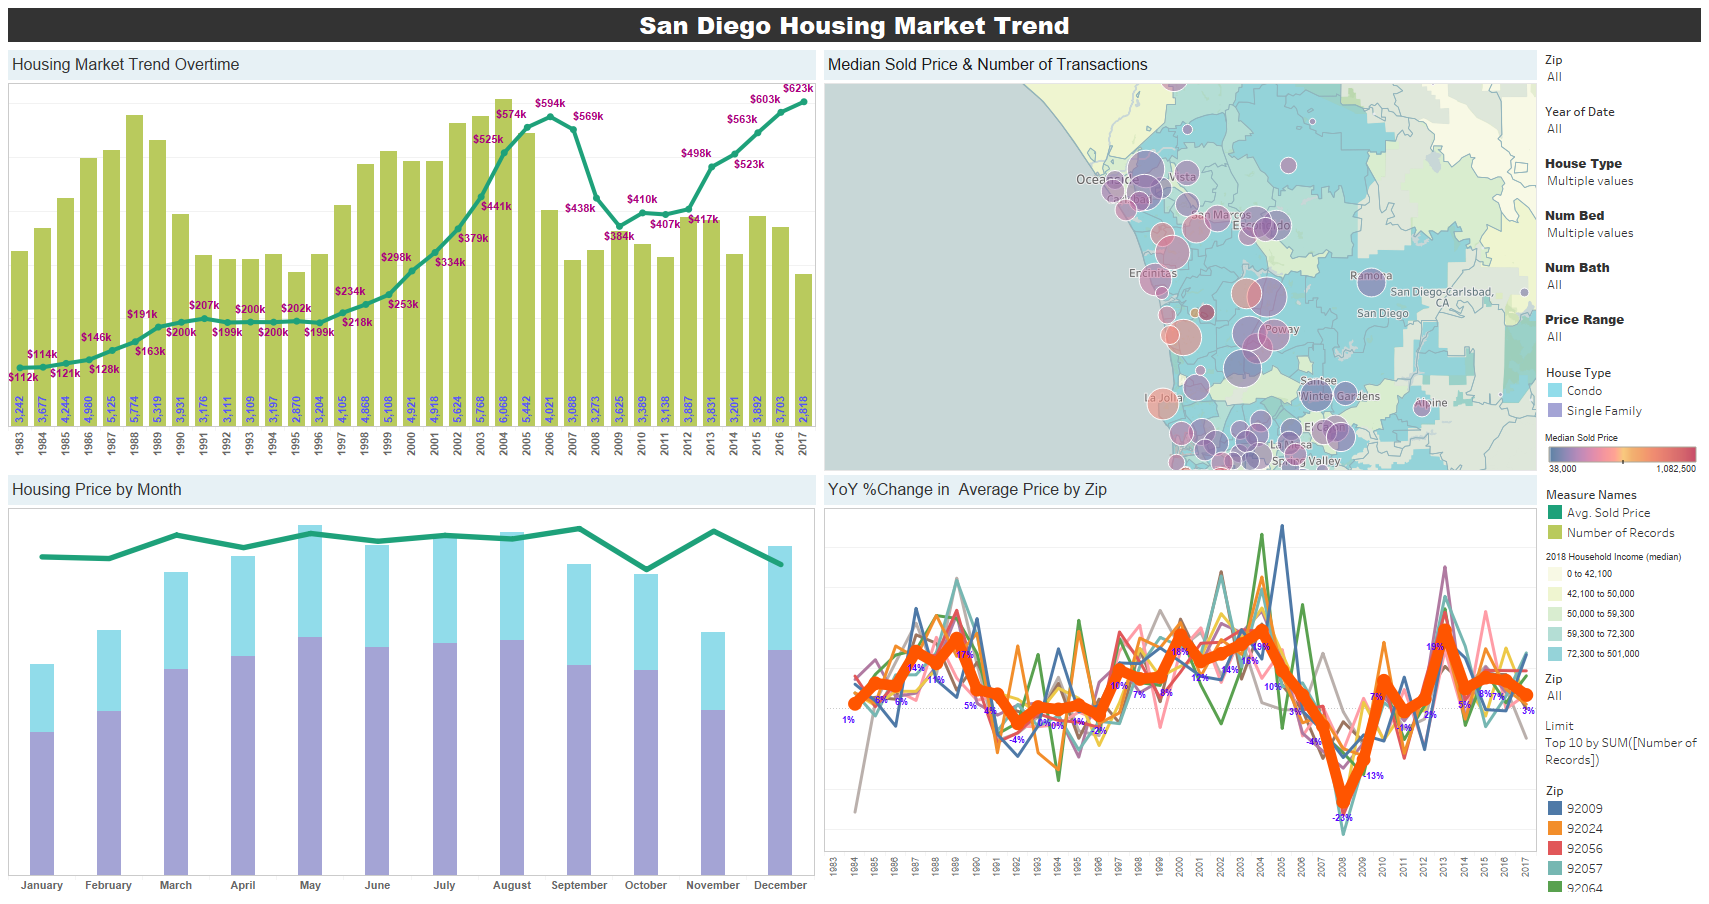

Layout of this report page (visuals, bound fields, positions):
{"tool":"tableau","page":{"name":"Dashboard2","canvas":[1000,1000],"units":"permille","ordinal":3},"visuals":[{"type":"title","box":[4.7,8.8,990.6,42]},{"type":"worksheet","title":"time series","mark":"Bar","rows":["Number of Records","sold_price"],"cols":["date"],"box":[4.7,50.9,474.9,470.2]},{"type":"worksheet","title":"map1","mark":"Automatic","box":[479.6,50.9,422.1,470.1]},{"type":"filter","title":"time series","param":"[federated.1k7wuoq0t5ub6q183kvkb0c32lxh].[none:zip:ok]","box":[901.7,50.9,93.6,57.5]},{"type":"filter","title":"monthly","param":"[federated.1k7wuoq0t5ub6q183kvkb0c32lxh].[yr:date:ok]","box":[901.7,108.4,93.6,57.5]},{"type":"filter","title":"monthly","param":"[federated.1k7wuoq0t5ub6q183kvkb0c32lxh].[House Type]","box":[901.7,165.9,93.6,57.5]},{"type":"filter","title":"monthly","param":"[federated.1k7wuoq0t5ub6q183kvkb0c32lxh].[none:num_bed:ok]","box":[901.7,223.4,93.6,57.5]},{"type":"filter","title":"monthly","param":"[federated.1k7wuoq0t5ub6q183kvkb0c32lxh].[none:num_bath:ok]","box":[901.7,281,93.6,57.5]},{"type":"legend","title":"monthly","param":"[federated.1k7wuoq0t5ub6q183kvkb0c32lxh].[House Type]","box":[901.7,338.5,93.6,73]},{"type":"legend","title":"time series","param":"[federated.1k7wuoq0t5ub6q183kvkb0c32lxh].[:Measure Names]","box":[901.7,411.5,93.6,73]},{"type":"filter","title":"trend_change_per_zip","param":"[federated.1k7wuoq0t5ub6q183kvkb0c32lxh].[none:zip:ok]","box":[901.7,484.5,93.6,122.8]},{"type":"worksheet","title":"monthly","mark":"Bar","rows":["Number of Records","sold_price"],"cols":["date"],"box":[4.7,521,474.9,470.1]},{"type":"worksheet","title":"trend_change_per_zip","mark":"Automatic","rows":["Calculation_1383449555269009412"],"cols":["date"],"box":[479.6,521,422.1,470.1]},{"type":"filter","title":"map1","param":"[federated.1k7wuoq0t5ub6q183kvkb0c32lxh].[Sold Price (group)]","box":[901.7,607.3,93.6,57.5]},{"type":"legend","title":"map1","param":"[federated.1k7wuoq0t5ub6q183kvkb0c32lxh].[med:sold_price:qk]","box":[901.7,664.8,93.6,60.8]},{"type":"legend","title":"map1","box":[901.7,725.6,93.6,135]}]}

Visuals, with their boxes on the dashboard's canvas, which has no fixed pixel size, in thousandths of its width and height (x1, y1, x2, y2). These are canvas units, not pixel positions in the 1709x904 screenshot, which may show the page scaled, cropped or inside an application window:
title: [5, 9, 995, 51]
"time series" worksheet (Bar marks): [5, 51, 480, 521]
"map1" worksheet: [480, 51, 902, 521]
"time series" filter: [902, 51, 995, 108]
"monthly" filter: [902, 108, 995, 166]
"monthly" filter: [902, 166, 995, 223]
"monthly" filter: [902, 223, 995, 281]
"monthly" filter: [902, 281, 995, 338]
"monthly" legend: [902, 338, 995, 412]
"time series" legend: [902, 412, 995, 484]
"trend_change_per_zip" filter: [902, 484, 995, 607]
"monthly" worksheet (Bar marks): [5, 521, 480, 991]
"trend_change_per_zip" worksheet: [480, 521, 902, 991]
"map1" filter: [902, 607, 995, 665]
"map1" legend: [902, 665, 995, 726]
"map1" legend: [902, 726, 995, 861]
